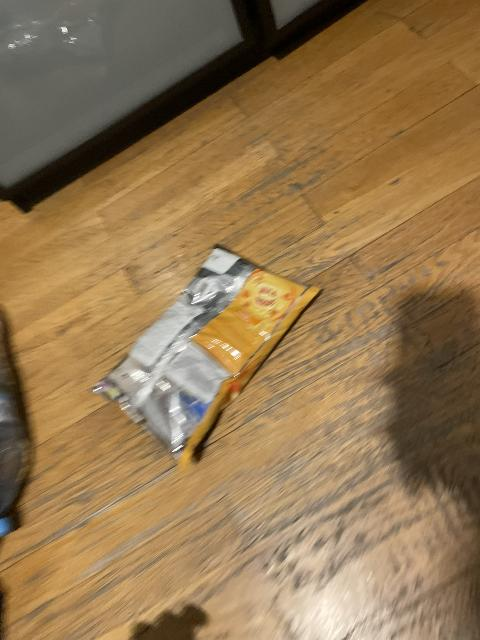Chio Hula Hoops Cheese 70g: (94, 247, 319, 464)
